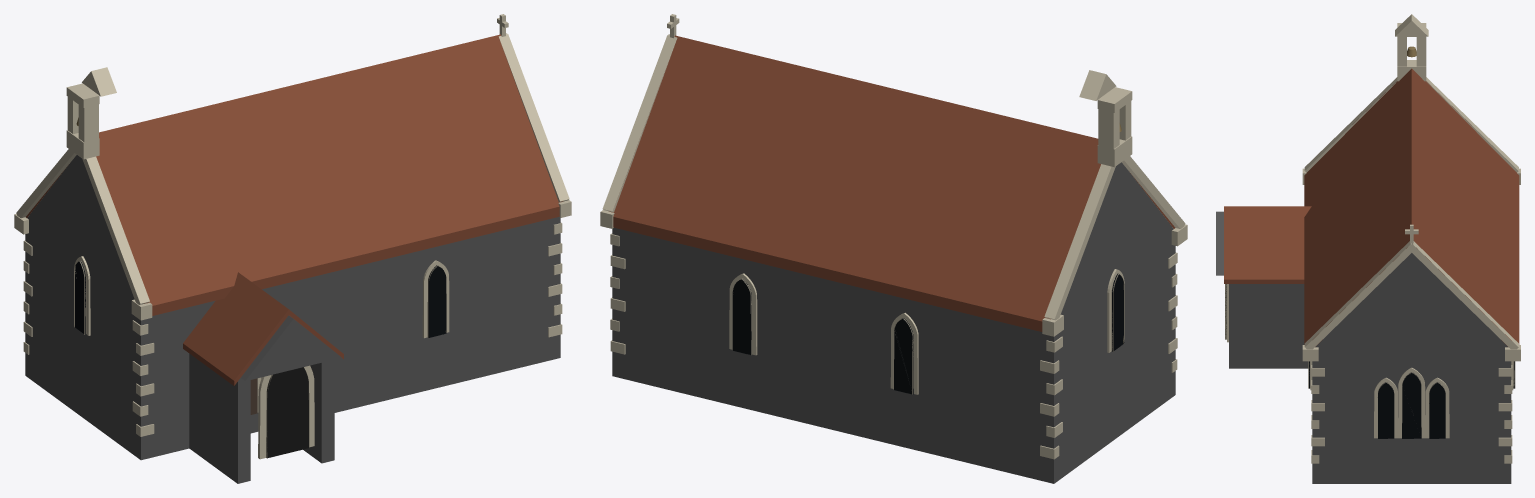
Rendered from context.church.ea_bellcote.glb.
3 views of the same model, side by side, from view 1: azimuth 30°, elevation 25°; view 2: azimuth 150°, elevation 25°; view 3: azimuth 270°, elevation 25° (orthographic). The views are drawn at different scales.
Parts seen in each view (by area): view 1: main__clad_843, main__stone_555, main__stone_cba, main__timber_111, main__glass_dark, main__stone_987; view 2: main__clad_843, main__stone_555, main__stone_cba, main__glass_dark, main__stone_987; view 3: main__clad_843, main__stone_555, main__stone_cba, main__glass_dark.
Part boxes in pixels (box(x1,y1,x2,y2)): main__clad_843: box(26, 34, 563, 385); main__stone_555: box(25, 155, 560, 483); main__stone_cba: box(14, 14, 571, 459); main__timber_111: box(266, 367, 308, 457); main__glass_dark: box(75, 261, 446, 337); main__stone_987: box(74, 261, 446, 458); main__clad_843: box(609, 35, 1175, 331); main__stone_555: box(612, 162, 1175, 483); main__stone_cba: box(600, 14, 1187, 459); main__glass_dark: box(732, 273, 1124, 394); main__stone_987: box(732, 274, 1124, 394); main__clad_843: box(1224, 68, 1519, 346); main__stone_555: box(1216, 211, 1511, 483); main__stone_cba: box(1227, 14, 1520, 463); main__glass_dark: box(1309, 361, 1514, 438).
Size of the model in its own units: 13.43 by 10.21 by 9.5.
